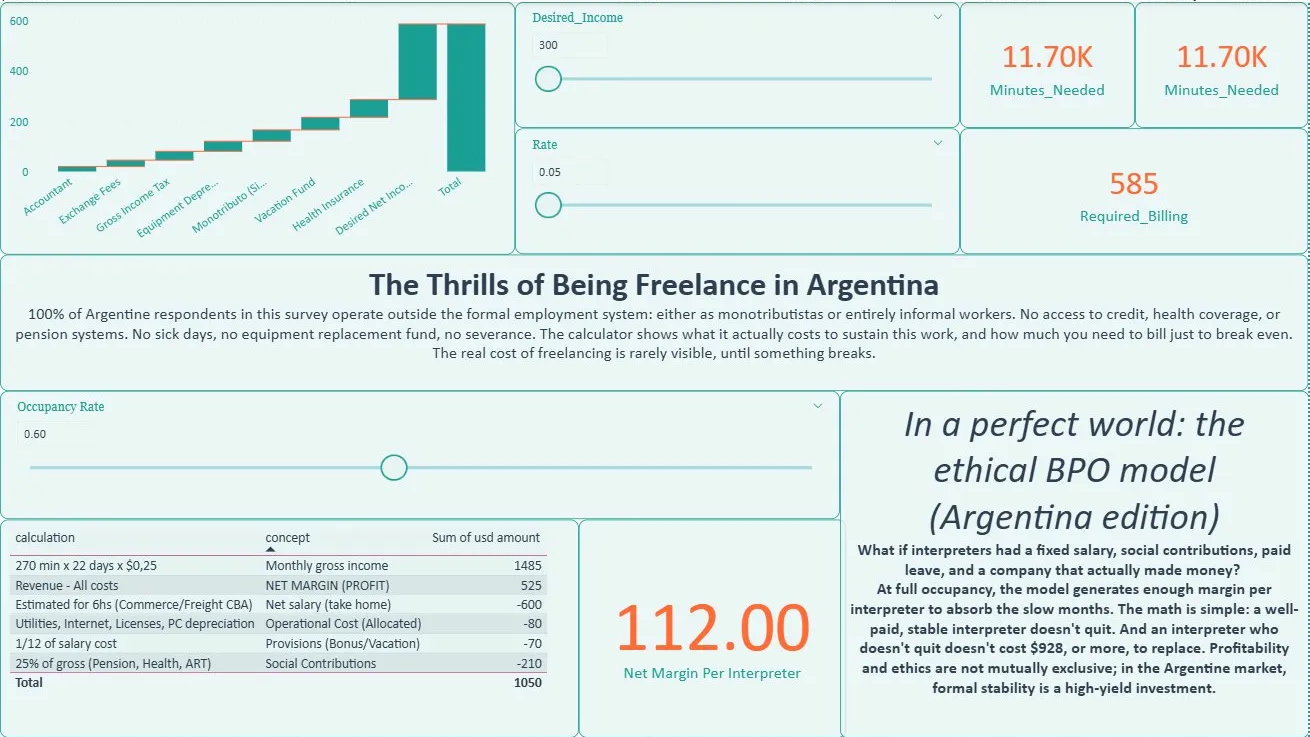

Layout of this report page (visuals, bound fields, positions):
{"tool":"powerbi","page":{"name":"Page 3","canvas":[1280,720],"ordinal":2},"visuals":[{"type":"tableEx","fields":{"Values":["modelo_bpo_blanco_arg.Cálculo","modelo_bpo_blanco_arg.concepto","Sum(modelo_bpo_blanco_arg.Monto (USD))"]},"box":[0,506.3,566.2,214],"z":1000},{"type":"textbox","box":[0,247,1280.3,133.3],"z":7000},{"type":"slicer","fields":{"Values":["Occupancy Rate.Occupancy Rate"]},"box":[0,380.3,821.7,126],"z":8000},{"type":"card","fields":{"Values":["BPO Size.Net Margin Per Interpreter"]},"box":[566.2,506.3,261.7,214],"z":9000},{"type":"textbox","box":[821.3,380.6,458.9,340],"z":10000},{"type":"slicer","fields":{"Values":["Desired_Income.Desired_Income"]},"box":[503.8,0,435.3,123.5],"z":10001},{"type":"slicer","fields":{"Values":["Rate 3.Rate"]},"box":[503.8,123.5,435.3,123.5],"z":10002},{"type":"waterfallChart","fields":{"Category":["Freelance_Costs_Final.Category"],"Y":["Freelance_Costs_Final.Dynamic_Amount"]},"box":[0,0,503.8,247],"z":10003},{"type":"card","fields":{"Values":["Freelance_costs.Minutes_Needed"]},"box":[939.1,0,171.2,123.5],"z":10004},{"type":"card","fields":{"Values":["Freelance_costs.Minutes_Needed"]},"box":[1110.3,0,170,123.5],"z":10005},{"type":"card","fields":{"Values":["Freelance_costs.Required_Billing"]},"box":[939.1,123.5,341.2,123.5],"z":10006}]}

Visuals, with their boxes in screenshot pixels (x1, y1, x2, y2), scaled from the page's 1280x720 canvas onto the 1310x737 screenshot:
tableEx - modelo_bpo_blanco_arg.Cálculo x modelo_bpo_blanco_arg.concepto: [0,518,579,736]
textbox: [0,253,1309,389]
slicer - Occupancy Rate.Occupancy Rate: [0,389,841,518]
card - BPO Size.Net Margin Per Interpreter: [579,518,847,736]
textbox: [841,390,1309,736]
slicer - Desired_Income.Desired_Income: [516,0,961,126]
slicer - Rate 3.Rate: [516,126,961,253]
waterfallChart - Freelance_Costs_Final.Category x Freelance_Costs_Final.Dynamic_Amount: [0,0,516,253]
card - Freelance_costs.Minutes_Needed: [961,0,1136,126]
card - Freelance_costs.Minutes_Needed: [1136,0,1309,126]
card - Freelance_costs.Required_Billing: [961,126,1309,253]
